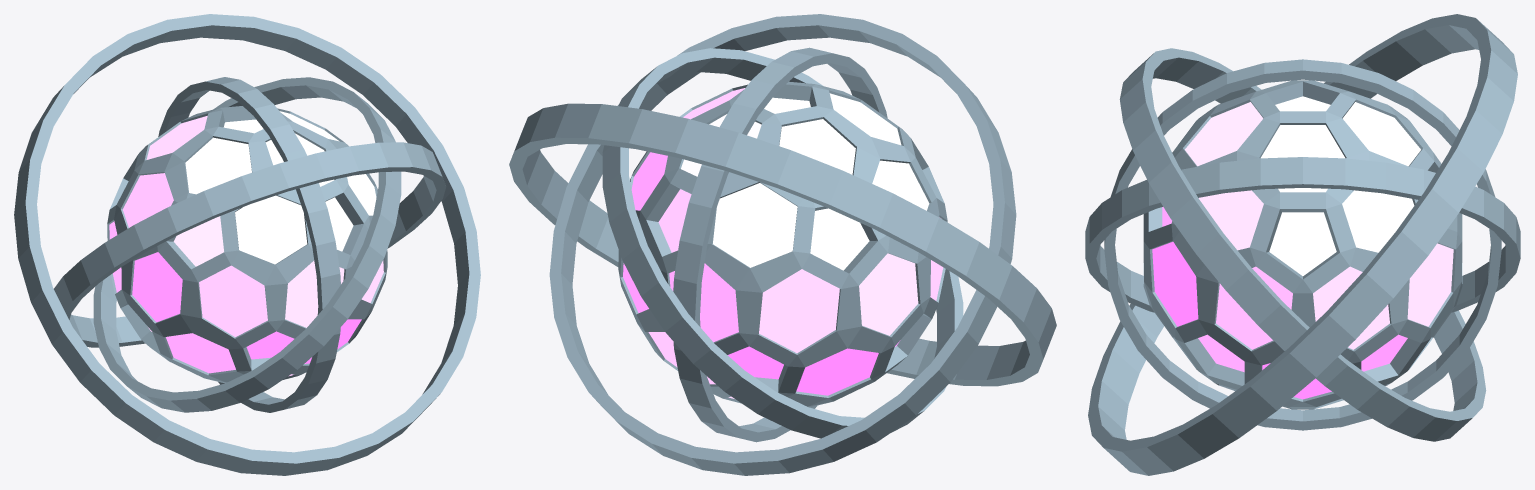
Rendered from core.glb.
3 renders of one model, left to right at view 1: azimuth 30°, elevation 25°; view 2: azimuth 150°, elevation 25°; view 3: azimuth 270°, elevation 25°, orthographic. The views are drawn at different scales.
Parts seen in each view (by area): view 1: Ring 4, Core.001, Core, Ring 3, Ring 2, Ring 1; view 2: Core.001, Ring 4, Core, Ring 3, Ring 2, Ring 1; view 3: Ring 4, Core.001, Core, Ring 3, Ring 1, Ring 2.
Part boxes in pixels (<box>): Ring 4: <box>14,14,480,475</box>; Core.001: <box>109,111,383,376</box>; Core: <box>107,106,387,383</box>; Ring 3: <box>54,142,446,347</box>; Ring 2: <box>93,77,401,412</box>; Ring 1: <box>158,77,340,412</box>; Core.001: <box>623,88,943,398</box>; Ring 4: <box>509,103,1056,386</box>; Core: <box>618,81,947,407</box>; Ring 3: <box>549,14,1016,475</box>; Ring 2: <box>602,48,963,438</box>; Ring 1: <box>673,47,887,442</box>; Ring 4: <box>1088,14,1517,475</box>; Core.001: <box>1152,96,1453,399</box>; Core: <box>1143,80,1462,409</box>; Ring 3: <box>1119,48,1486,441</box>; Ring 1: <box>1104,59,1501,430</box>; Ring 2: <box>1085,157,1520,312</box>.
Bounding box in the file's own units: 3.24 × 2.45 × 2.48.
